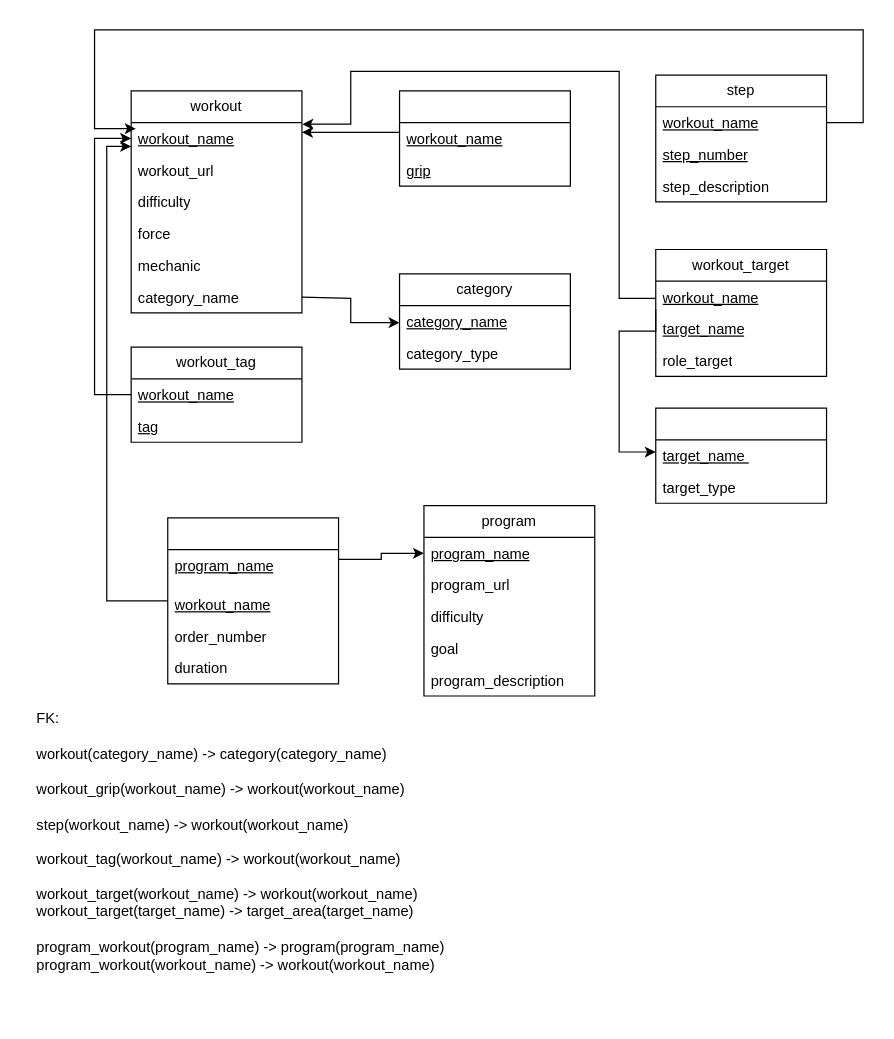
This 894x1039 diagram has some shape labels left out. Here are the shapes that lost their labels. From the top down, the box of each, then its label:
(398, 90, 570, 186): workout_grip
(655, 407, 827, 503): target_area
(167, 517, 339, 684): program_workout
